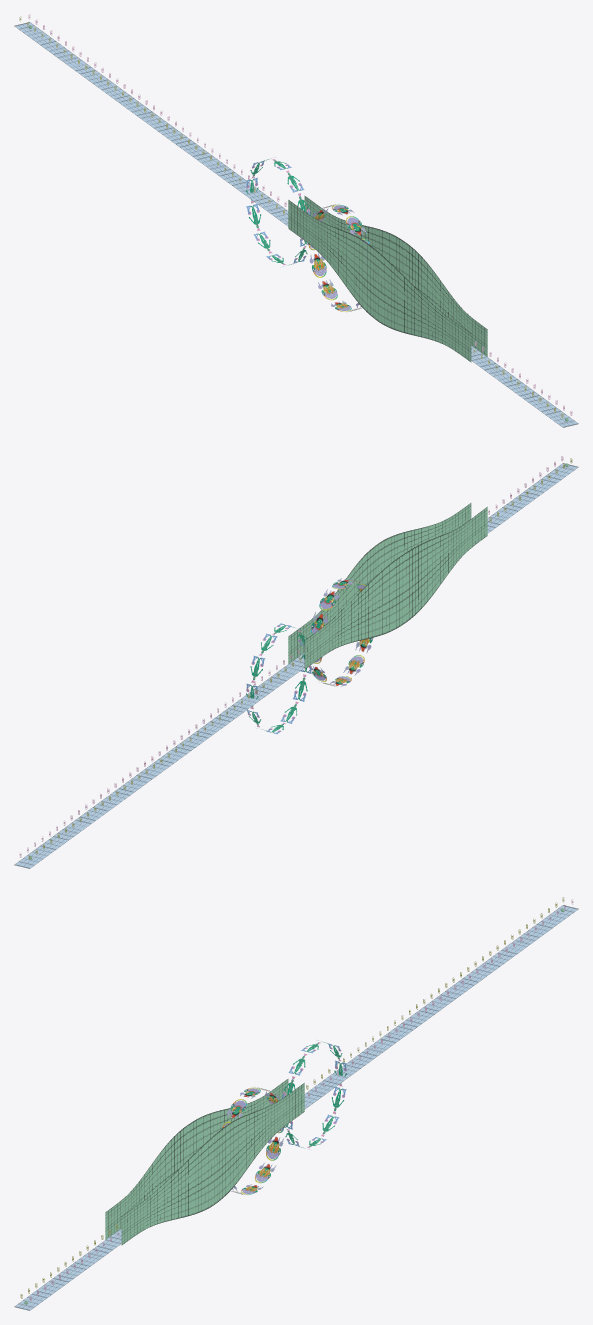
Rendered from unit-world-5.gltf.
3 renders of one model, top to bottom at view 1: azimuth 30°, elevation 25°; view 2: azimuth 150°, elevation 25°; view 3: azimuth 330°, elevation 25°, orthographic.
Parts seen in each view (by area): view 1: wall, floor, wall rings, wheel-5a2, wheel-5b2; view 2: wall, floor, wheel-5a2, wall rings, wheel-5b2; view 3: wall, floor, wall rings, wheel-5a2, wheel-5b2.
Boxes of the visible parts, box(x1,y1,x2,y2) form: wall: box(288, 196, 487, 362); floor: box(14, 22, 578, 427); wall rings: box(19, 14, 572, 417); wheel-5a2: box(308, 204, 370, 311); wheel-5b2: box(246, 158, 309, 265); wall: box(288, 503, 487, 669); floor: box(14, 463, 578, 868); wheel-5a2: box(311, 578, 373, 686); wall rings: box(19, 456, 572, 859); wheel-5b2: box(246, 625, 307, 732); wall: box(105, 1079, 304, 1245); floor: box(14, 905, 578, 1310); wall rings: box(20, 897, 573, 1300); wheel-5a2: box(221, 1086, 284, 1194); wheel-5b2: box(283, 1041, 346, 1148).
Bounding box in the file's own units: 96.81 × 302 × 3000.
Materials: 9 (9 with a texture image).
